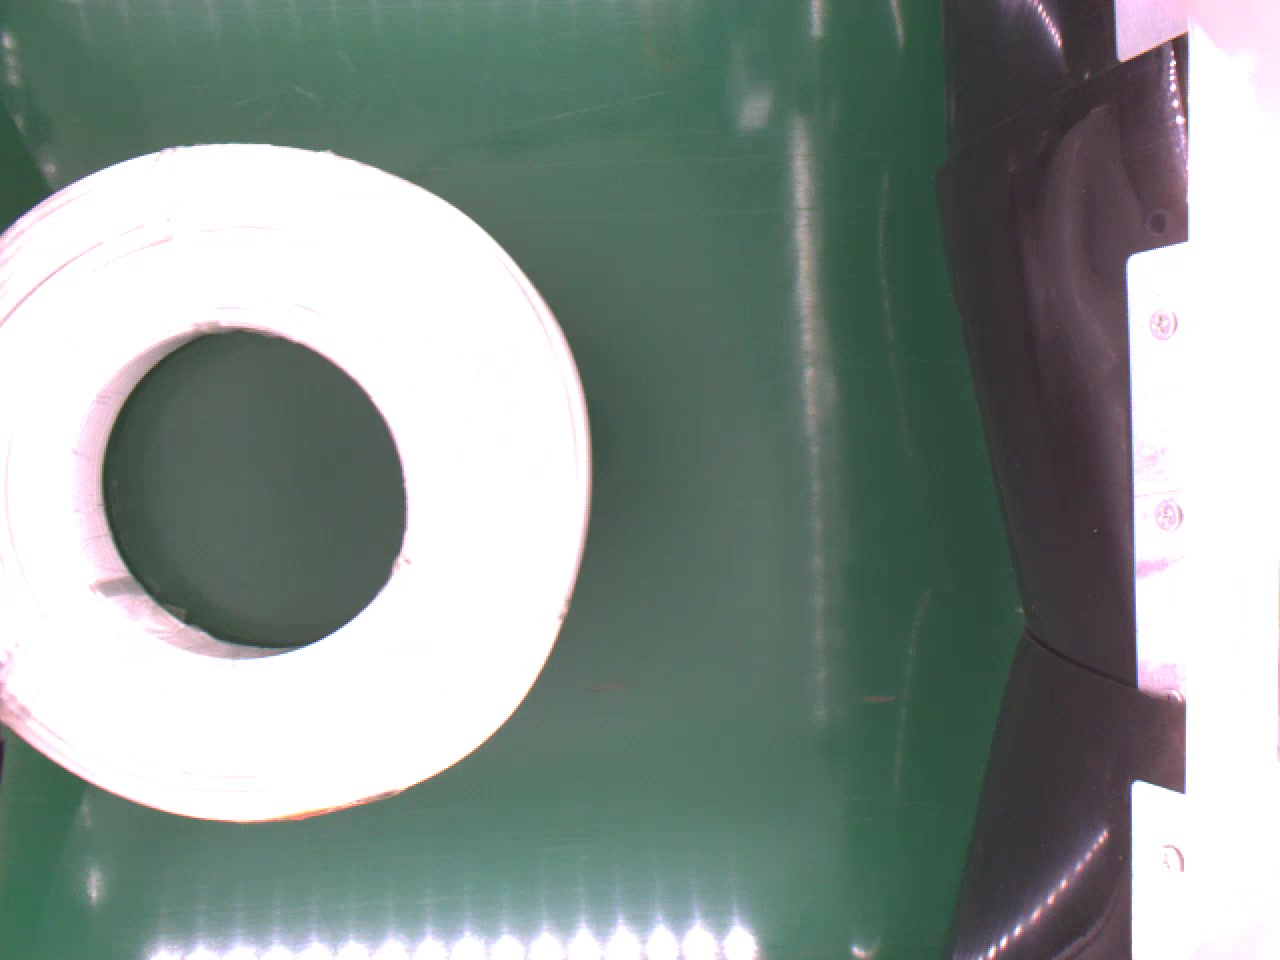white: (0, 139, 595, 825)
